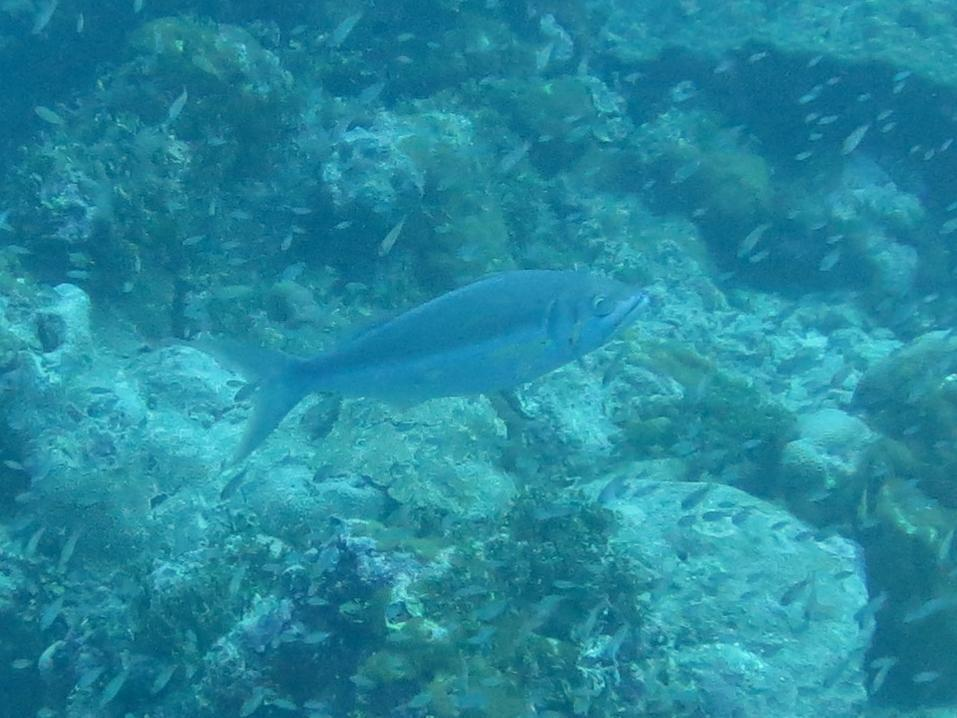Fish: (172, 256, 658, 471)
